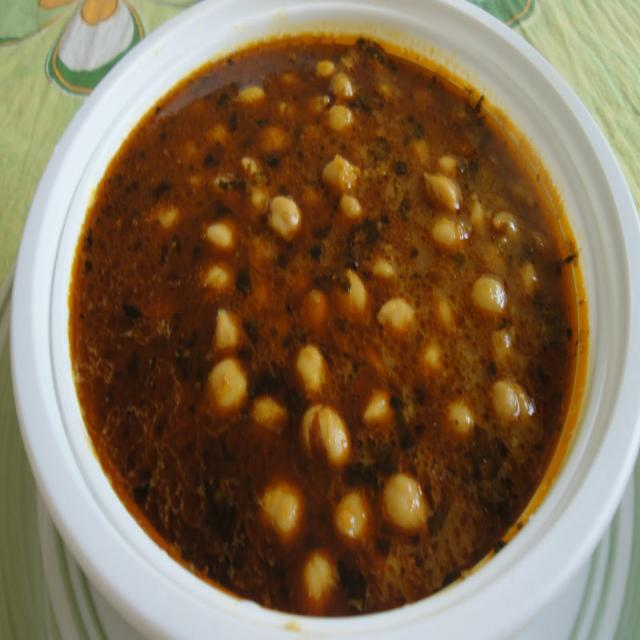Chole: (70, 36, 575, 616)
